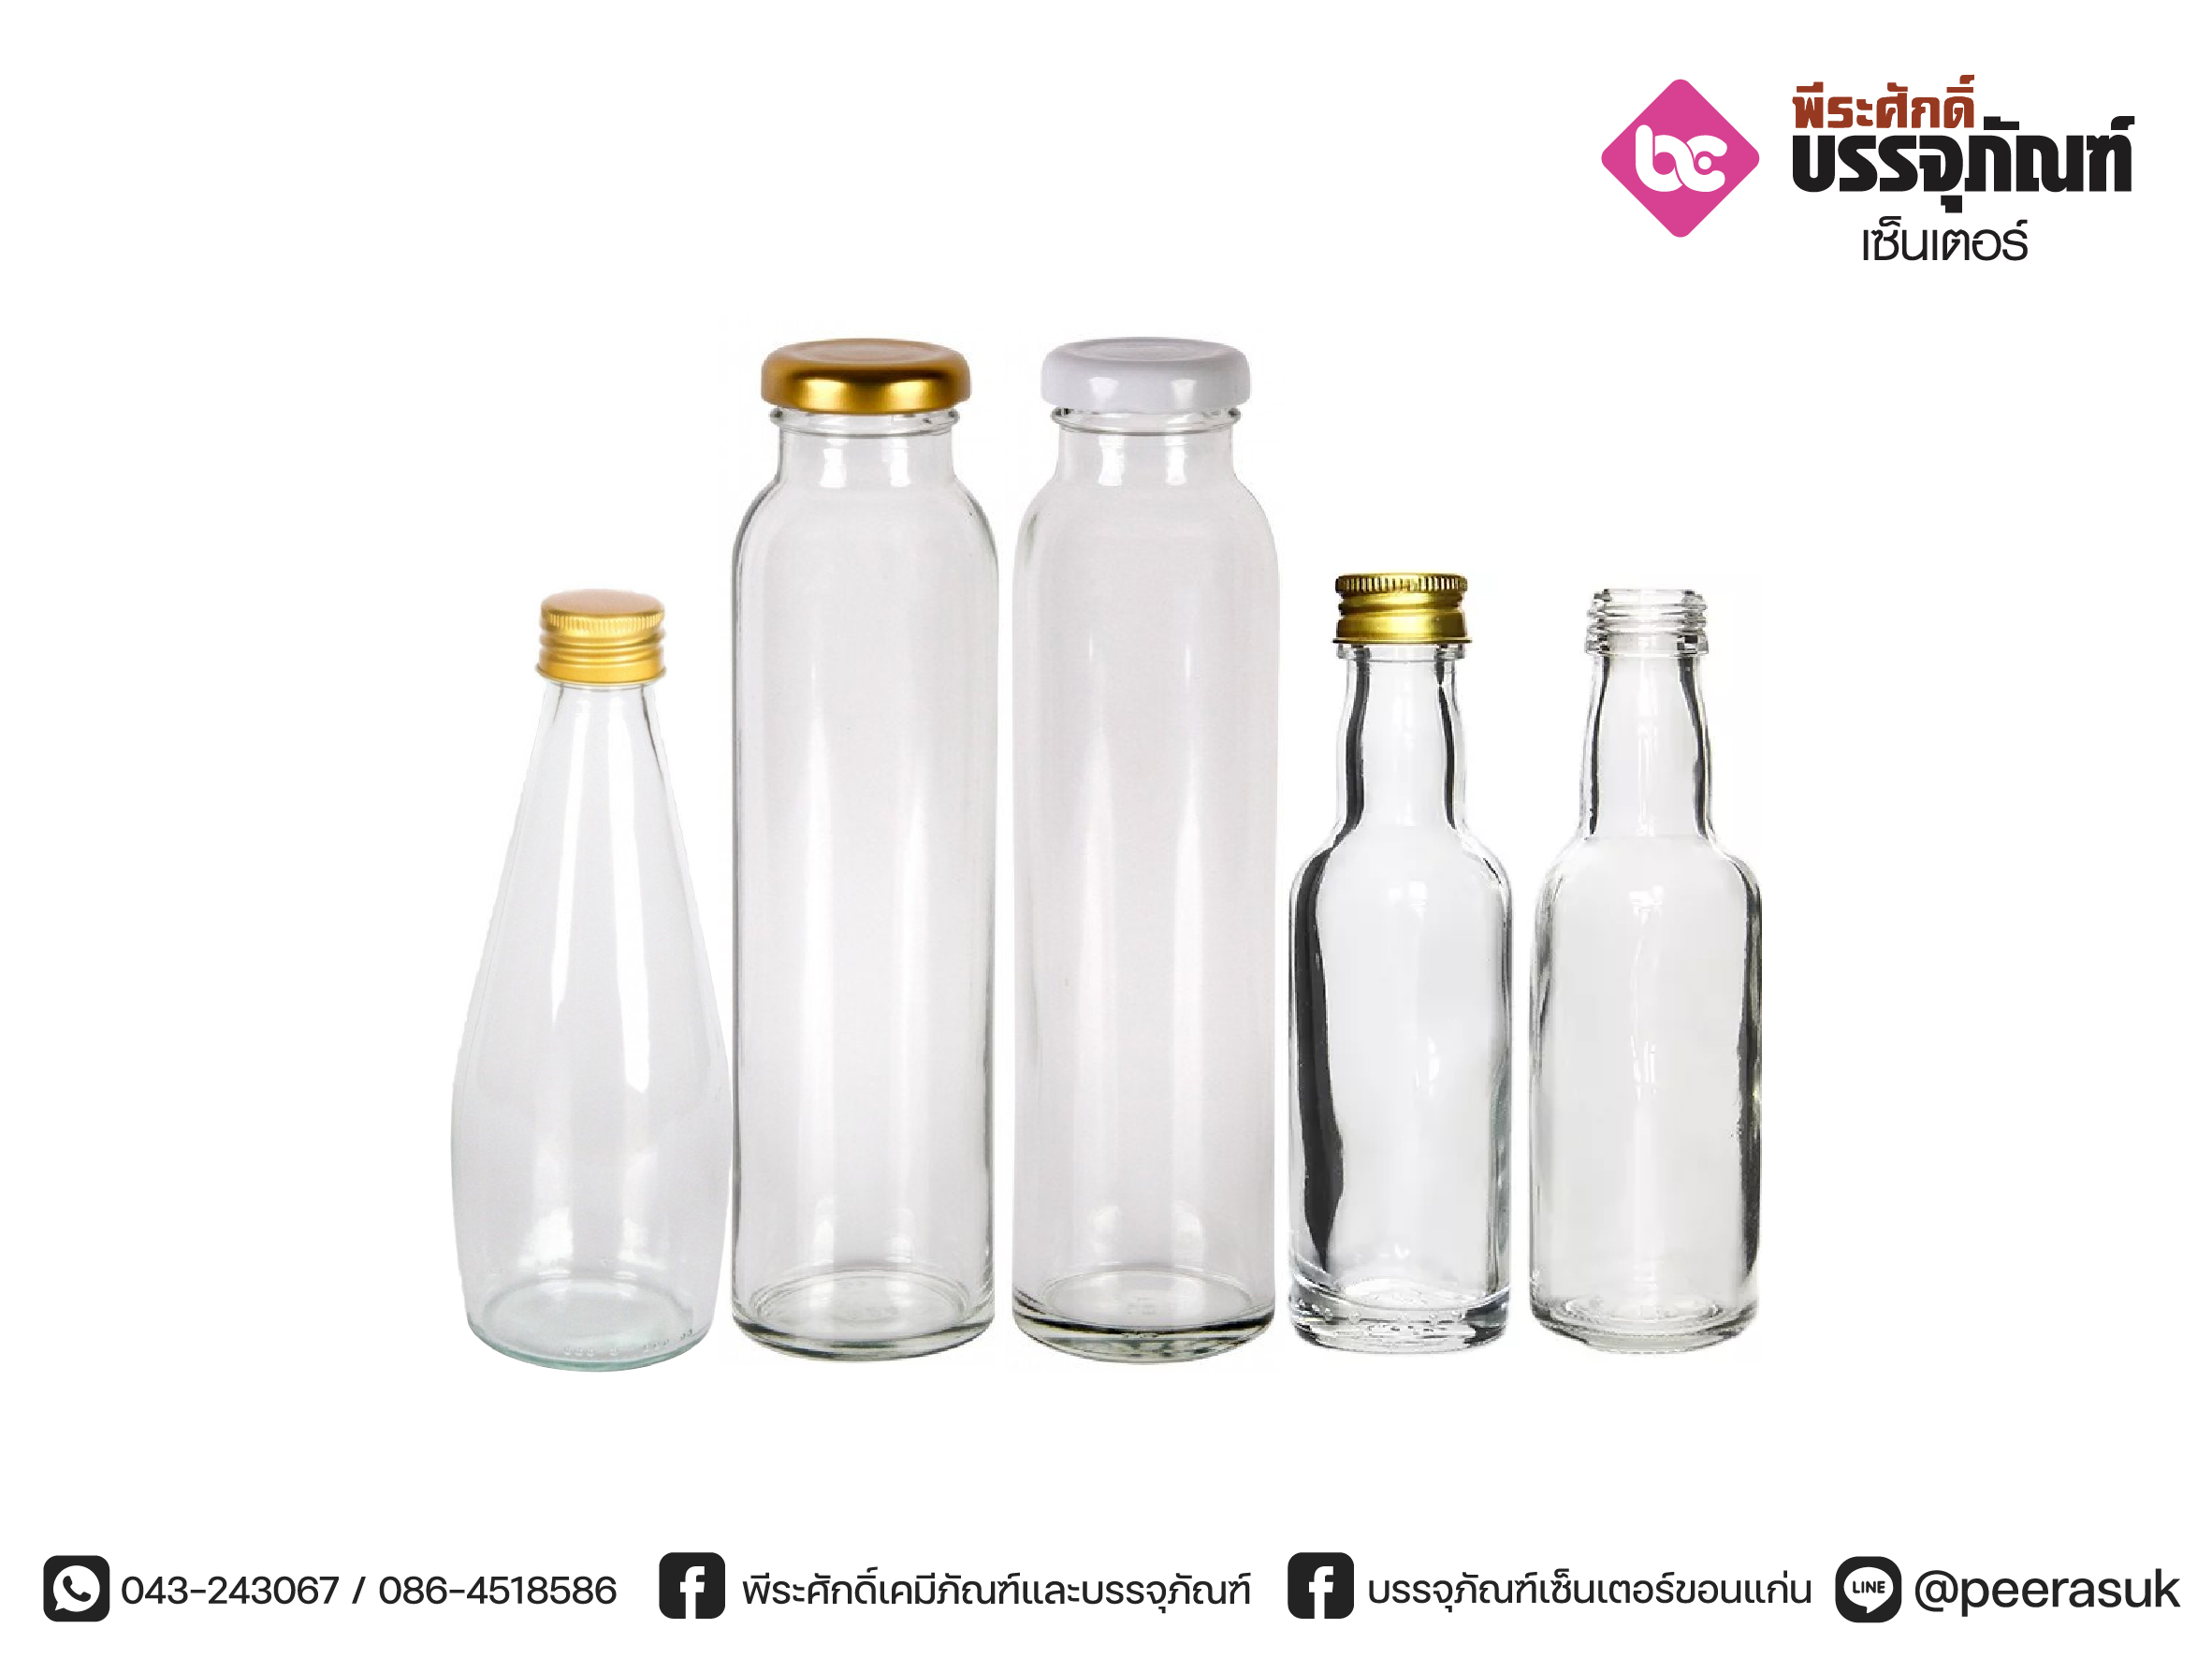glass_bottle: (1012, 312, 1284, 1379), (733, 329, 1000, 1378), (437, 563, 728, 1378), (1529, 563, 1787, 1374), (1296, 549, 1514, 1371)
